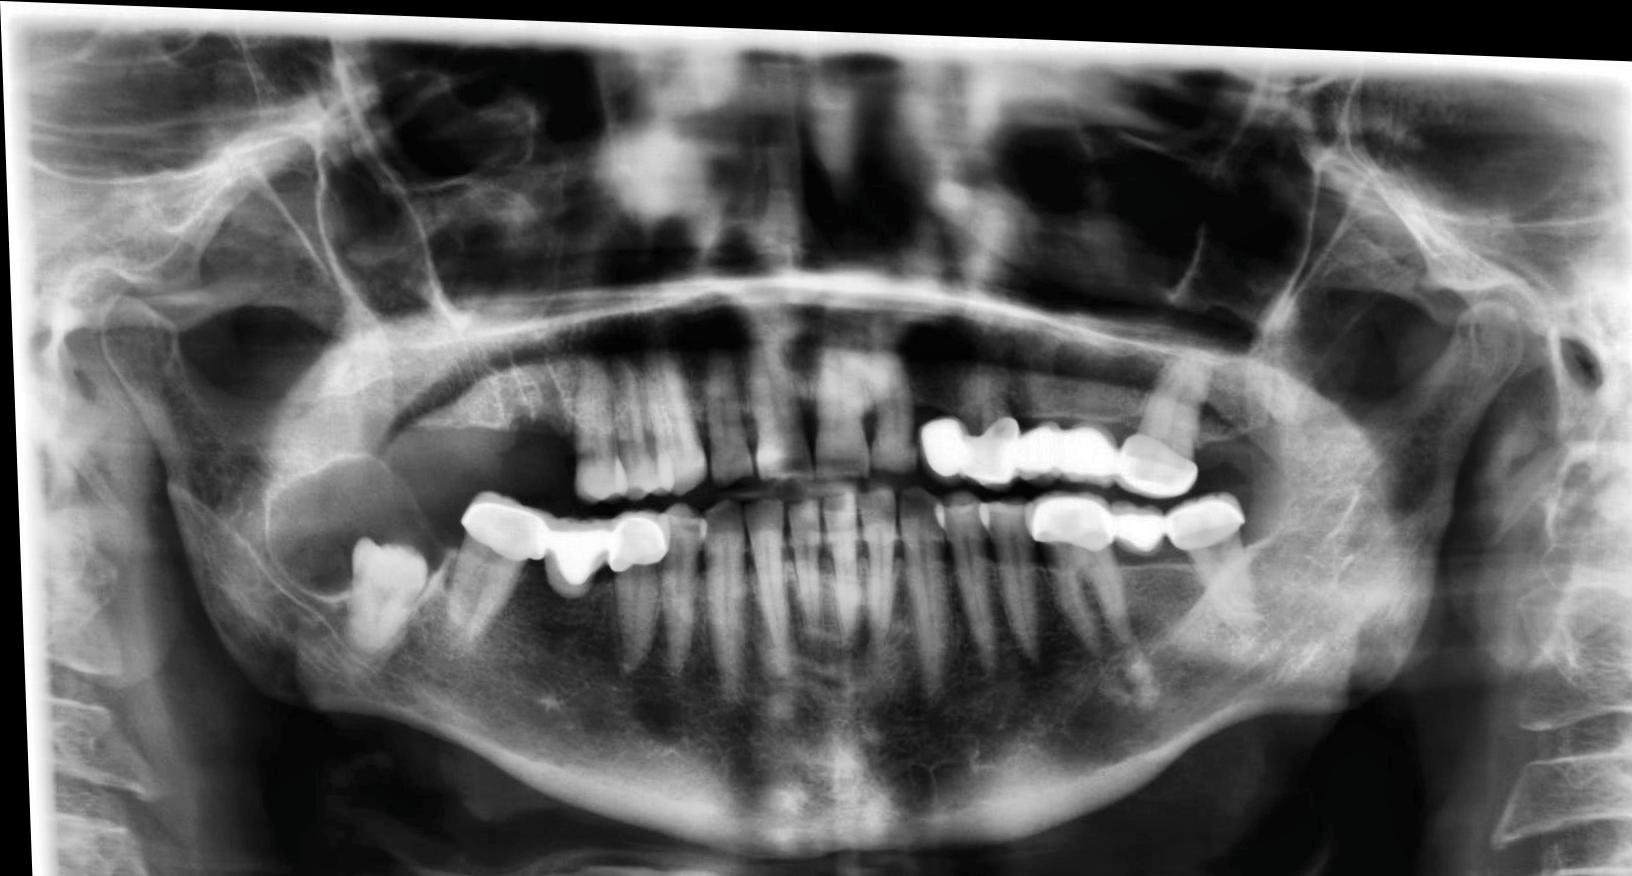dentigeroz: (257, 447, 445, 602)
